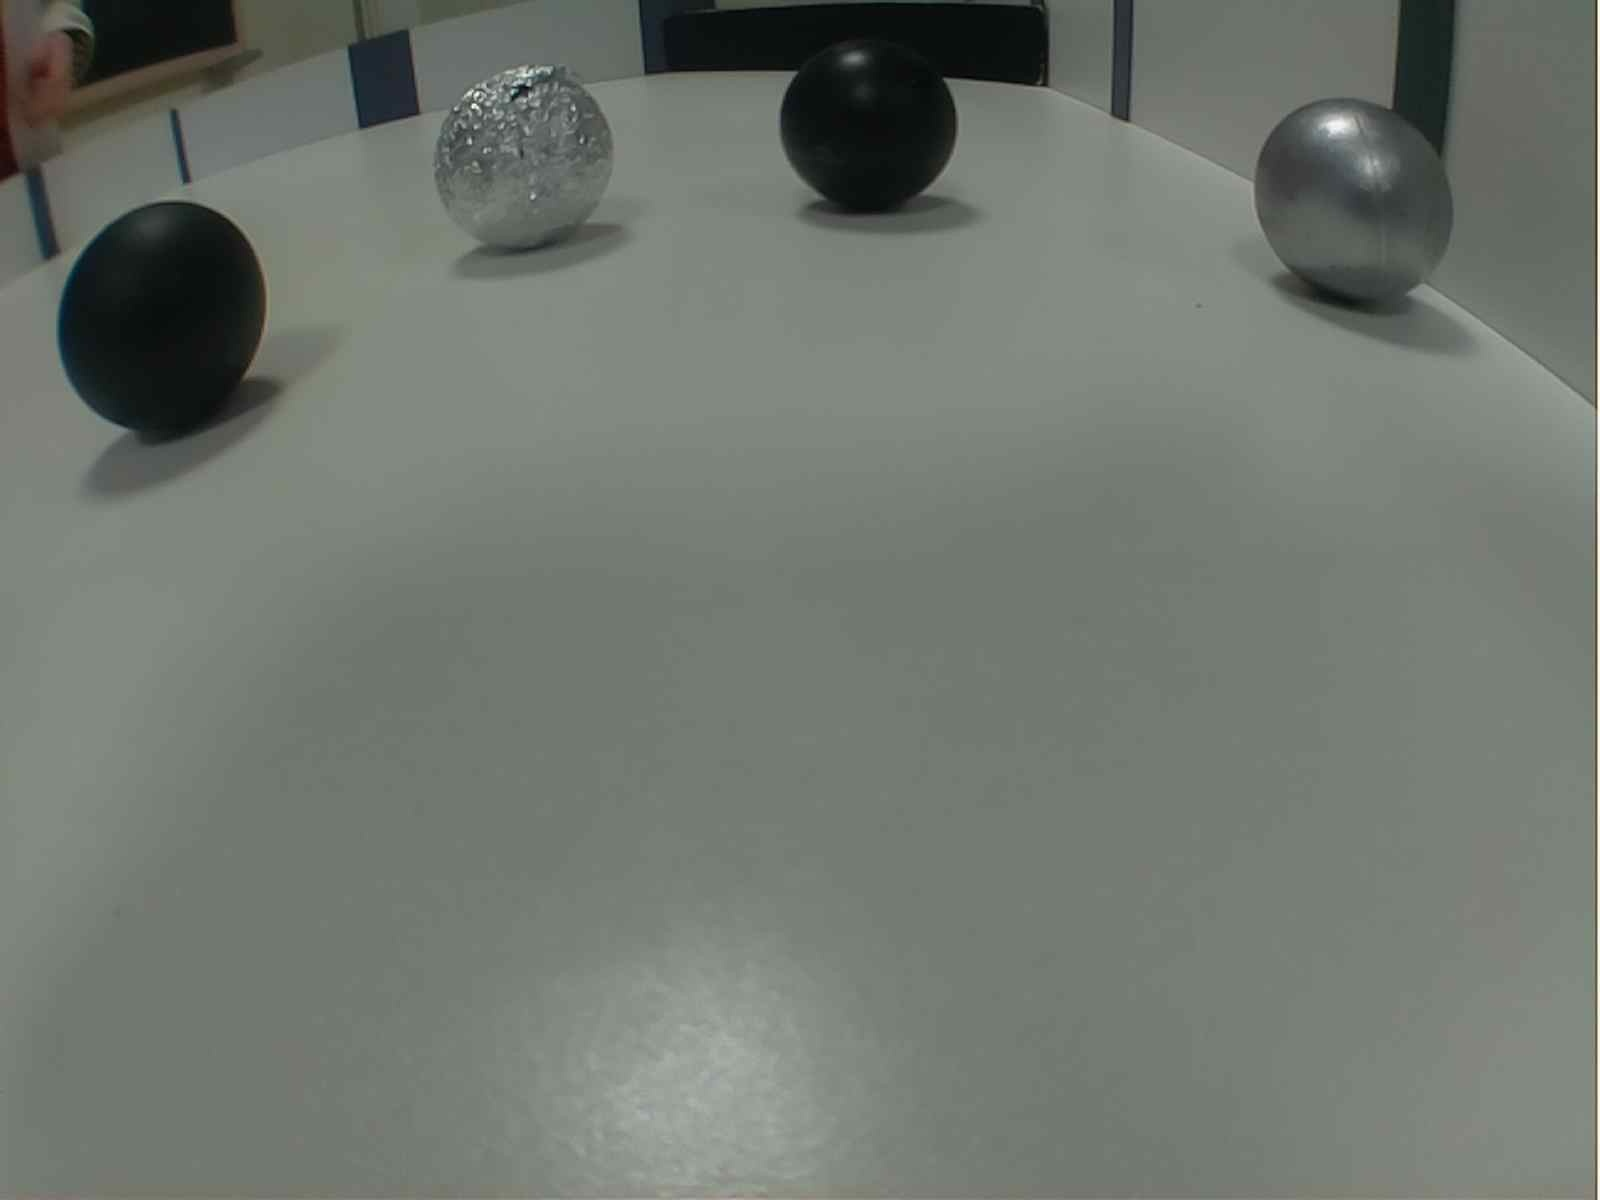bianca: (1250, 87, 1458, 306), (433, 61, 621, 255)
nera: (52, 198, 271, 446), (780, 43, 960, 219)
